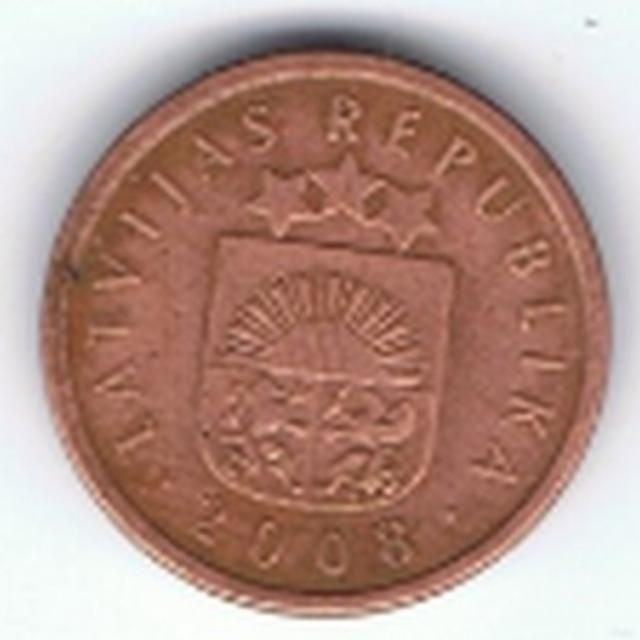Coin: (34, 47, 606, 619)
